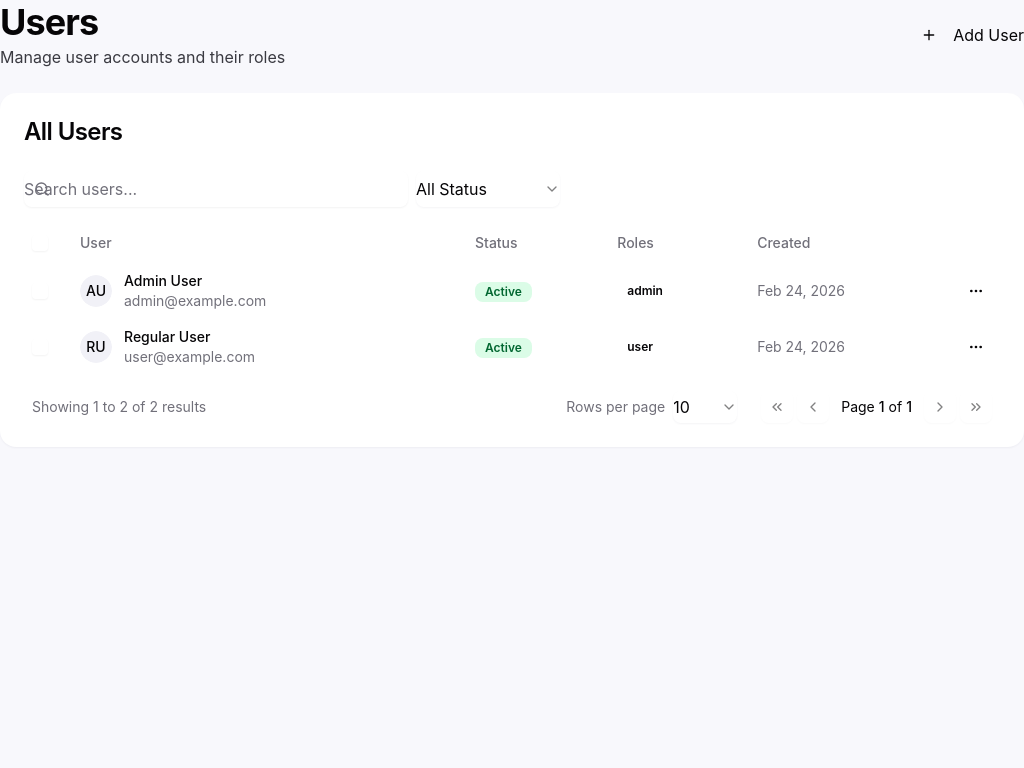
Test case: UsersPage › opens create user dialog on button click
Click the button "Add User": (973, 34) 921,16 -> 1023,52
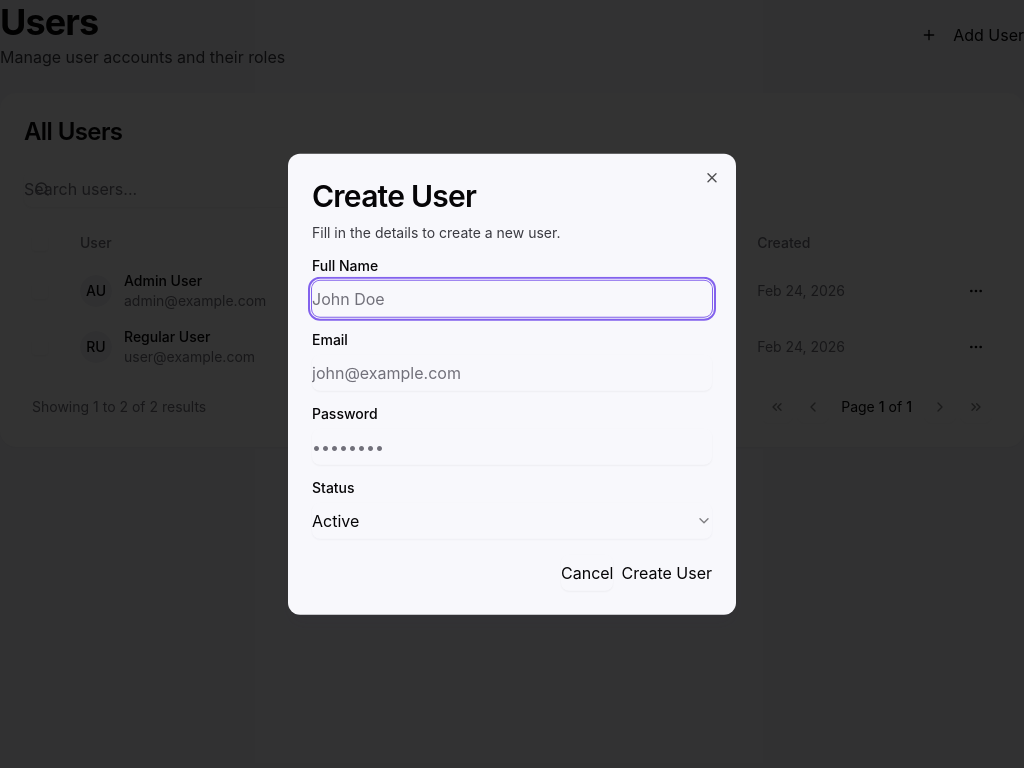
Result: the heading "Create User" is shown at 312,178 -> 476,214
